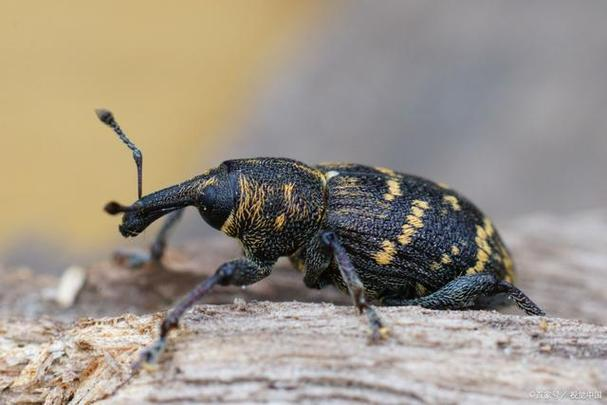Curculionidae: (93, 106, 547, 369)
